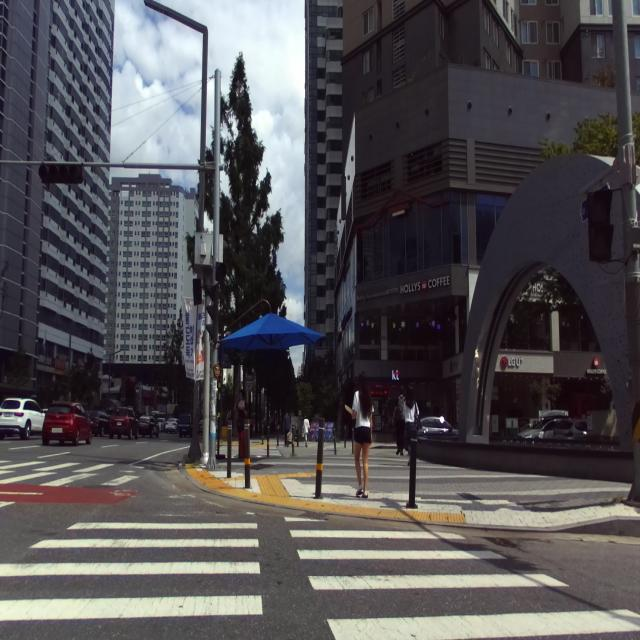횡단보도: (0, 512, 640, 640), (0, 453, 144, 492)
